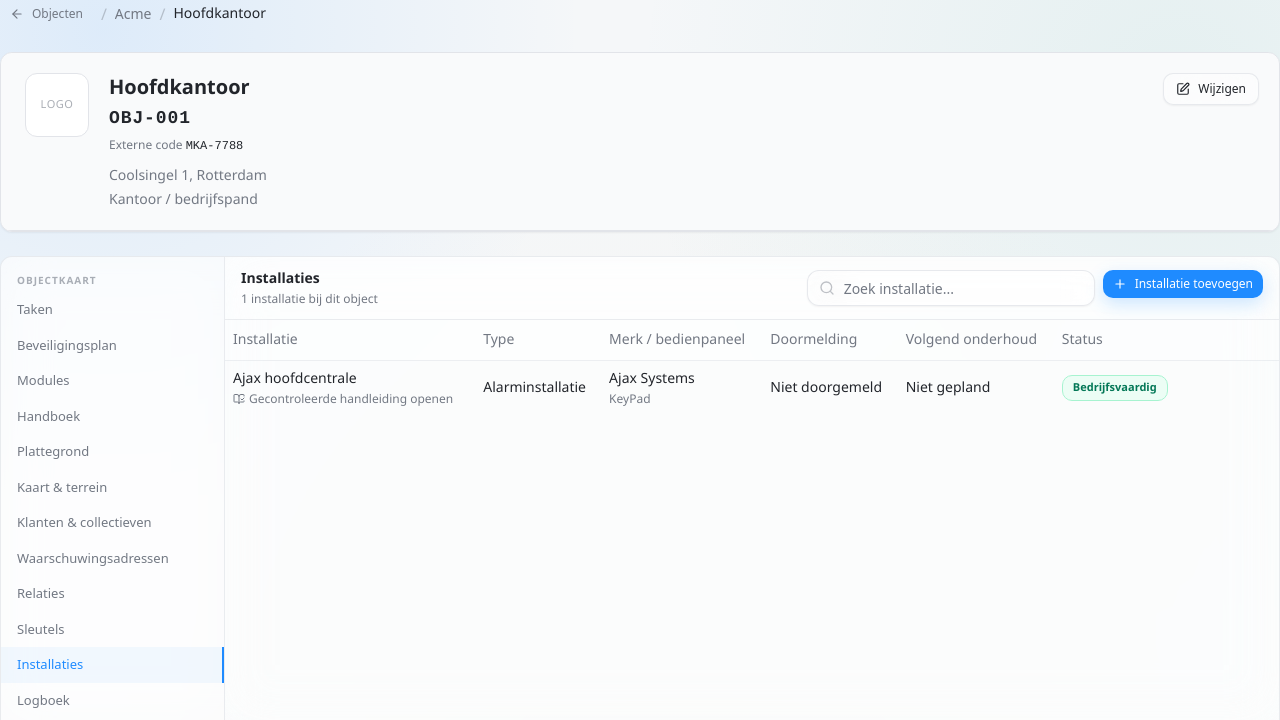
Test: objectnavigatie › opent een Ajax-installatie rechtstreeks in haar eigen handboekcontext
Expected: the text "Ajax hoofdcentrale" is shown, [233,368,357,388]
Click the text "Ajax hoofdcentrale" at (295, 378), box [225,360,1279,414]
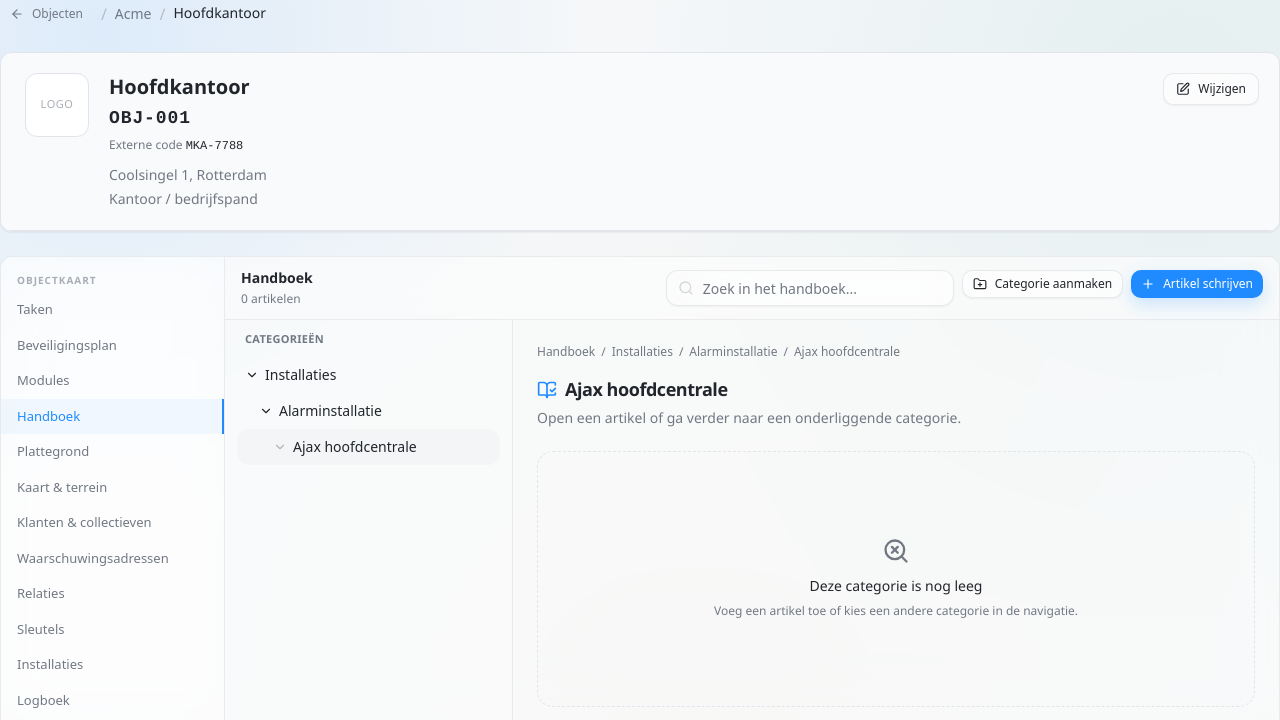
Expected: the text "Ajax hoofdcentrale" is shown, [293,436,417,456]
